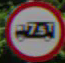Heavy Vehicles: (3, 3, 61, 54)
